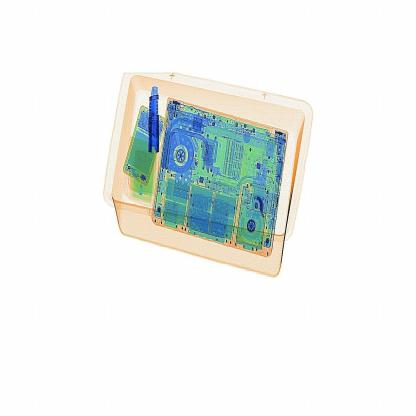pliers: (138, 73, 169, 170)
